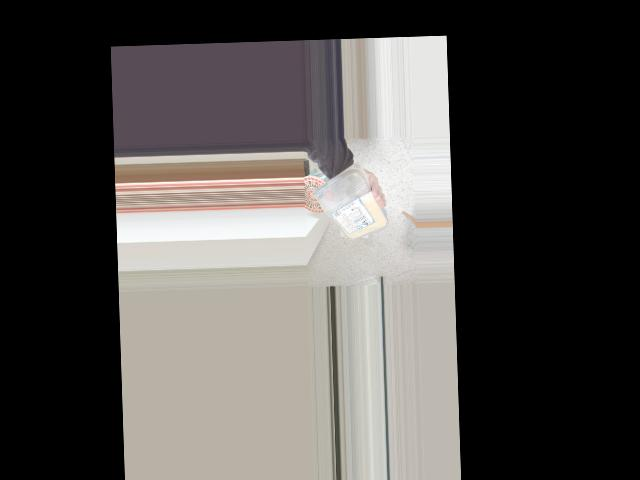cheese: (315, 172, 378, 243)
